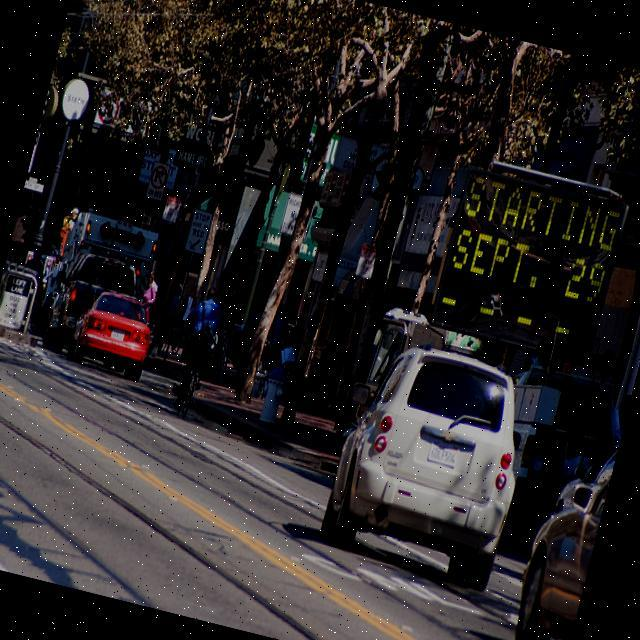fire_hydrant: (253, 360, 291, 424)
